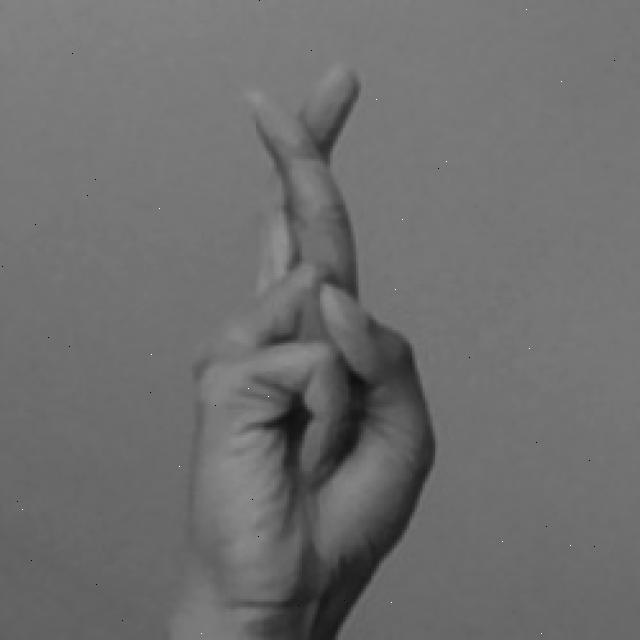R: (174, 59, 440, 640)
